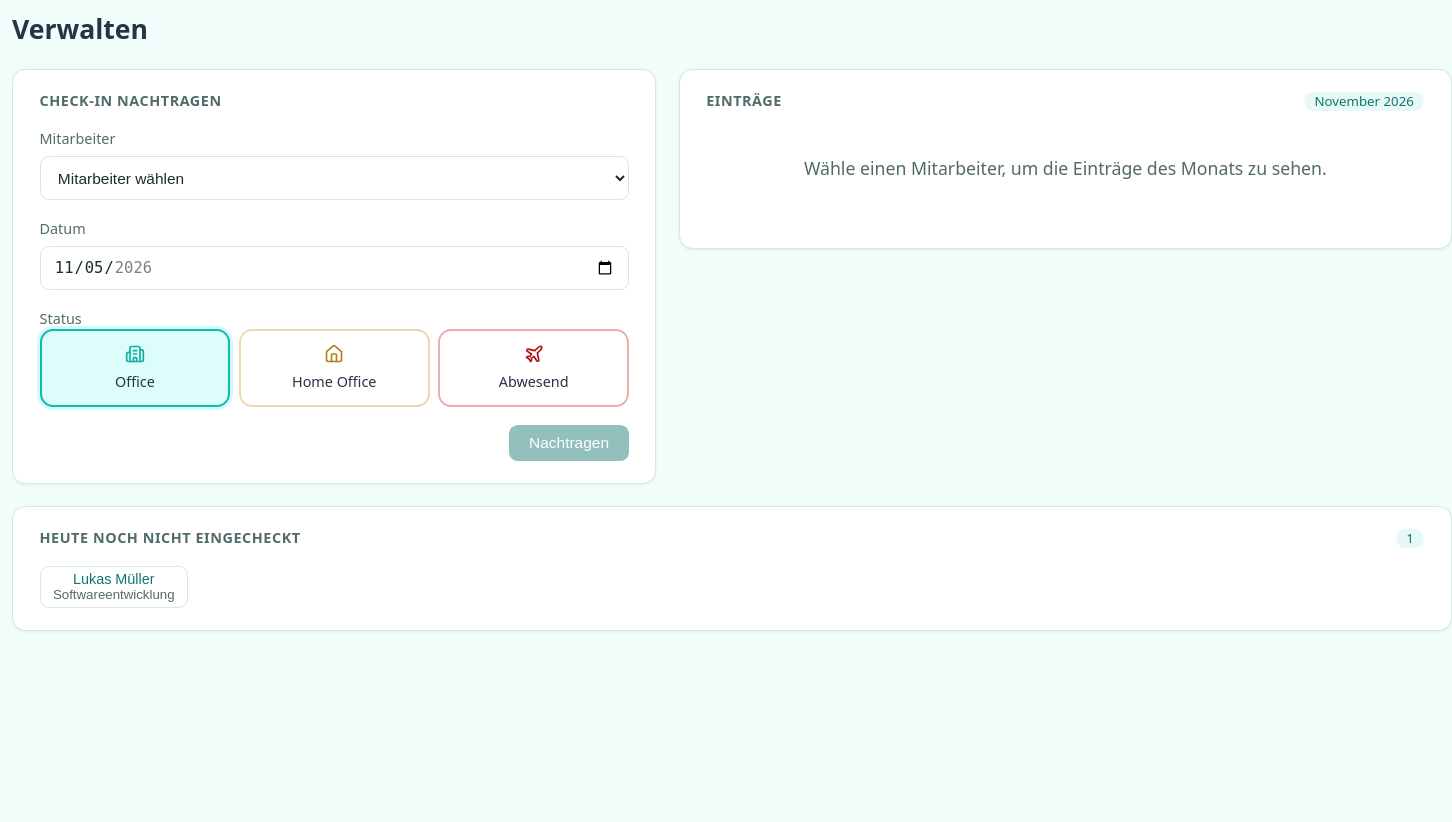
Test: Manage page: add and correct › shows the existing status on a 409 instead of overwriting
Select "Anna Adler" in the dropdown at (334, 178), box [40, 156, 629, 200]
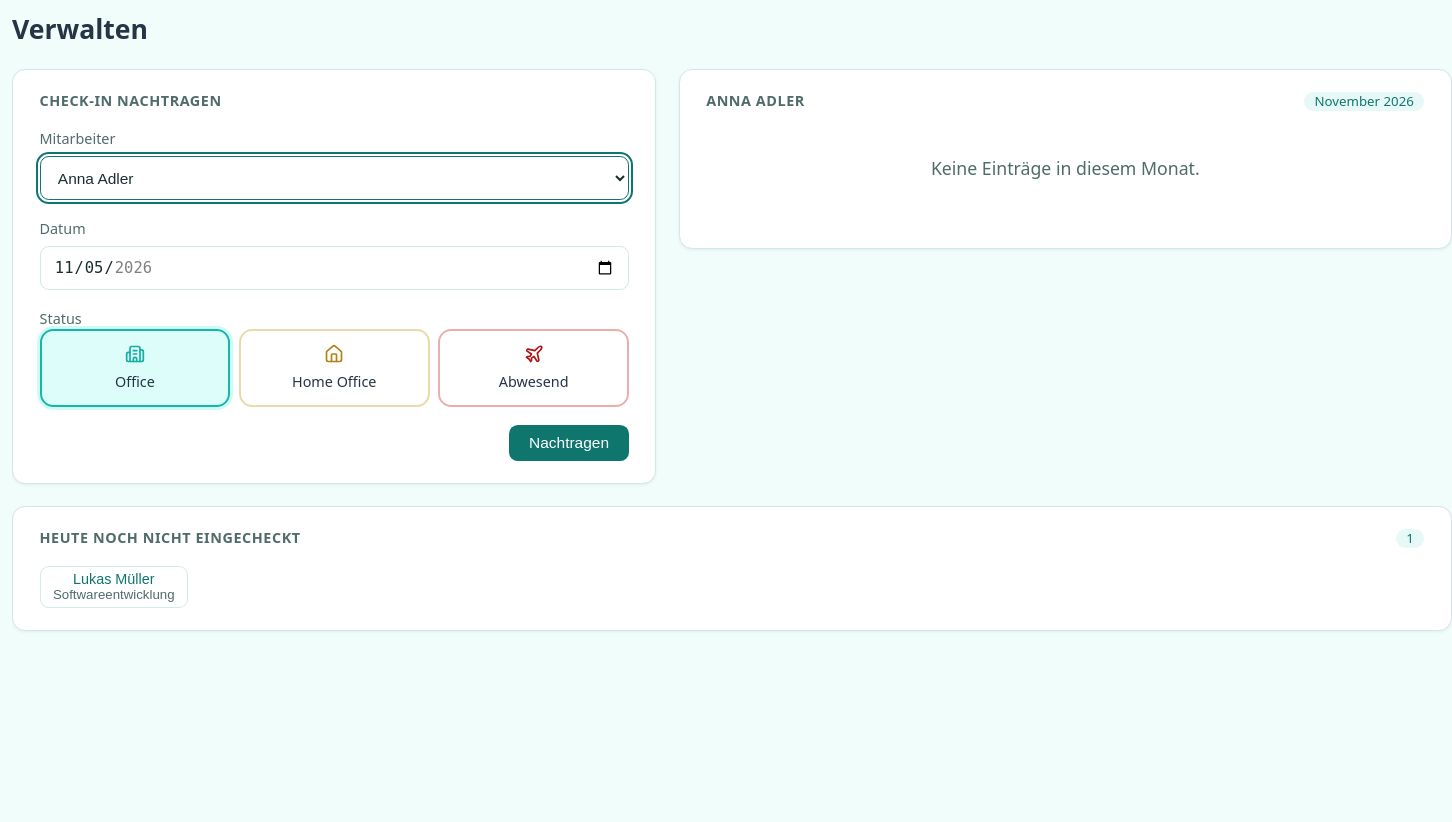
Click the button "Nachtragen" at (569, 443), box [509, 425, 629, 461]
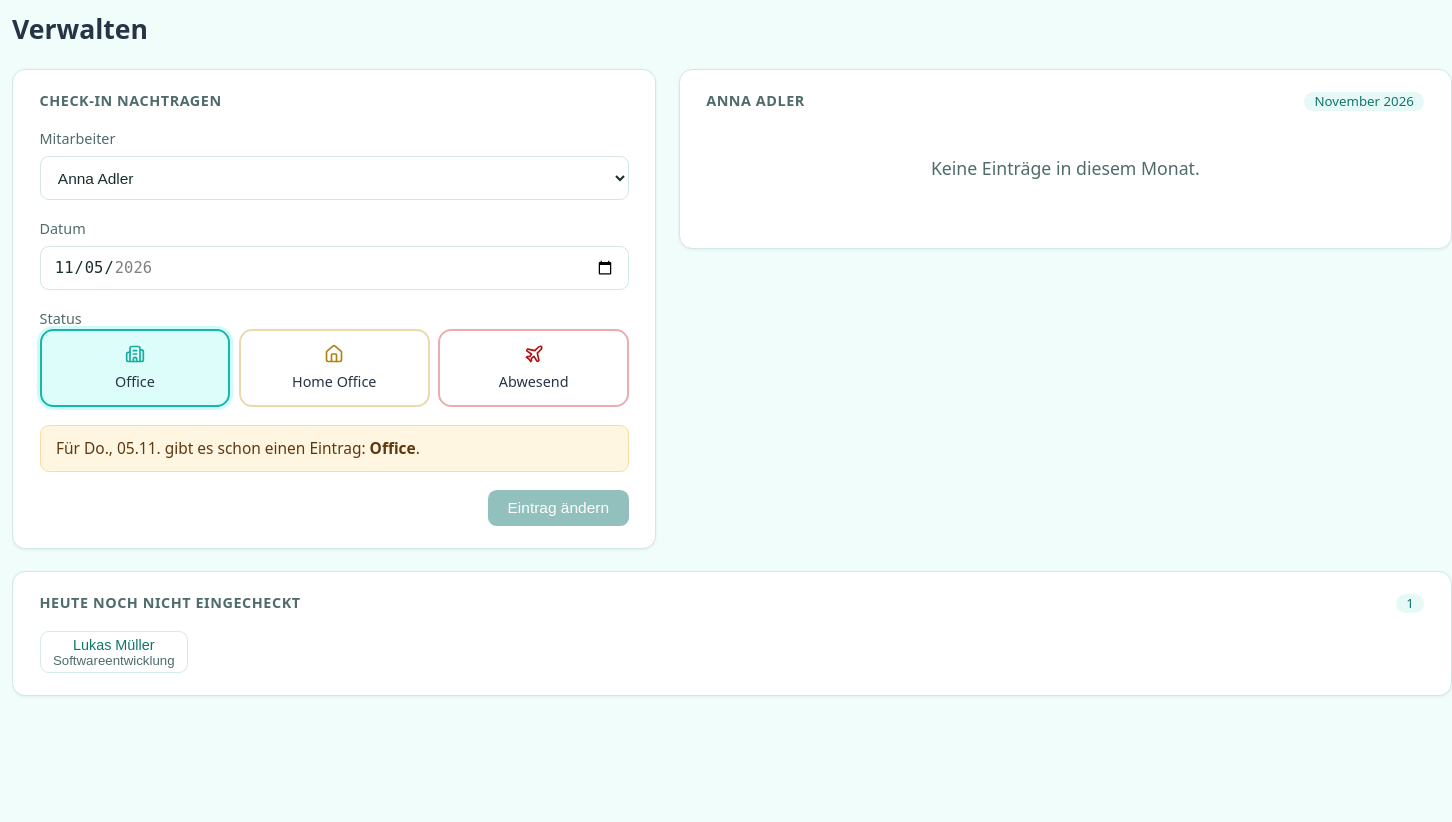
Expected: the message shows "Office", [370, 437, 416, 459]
